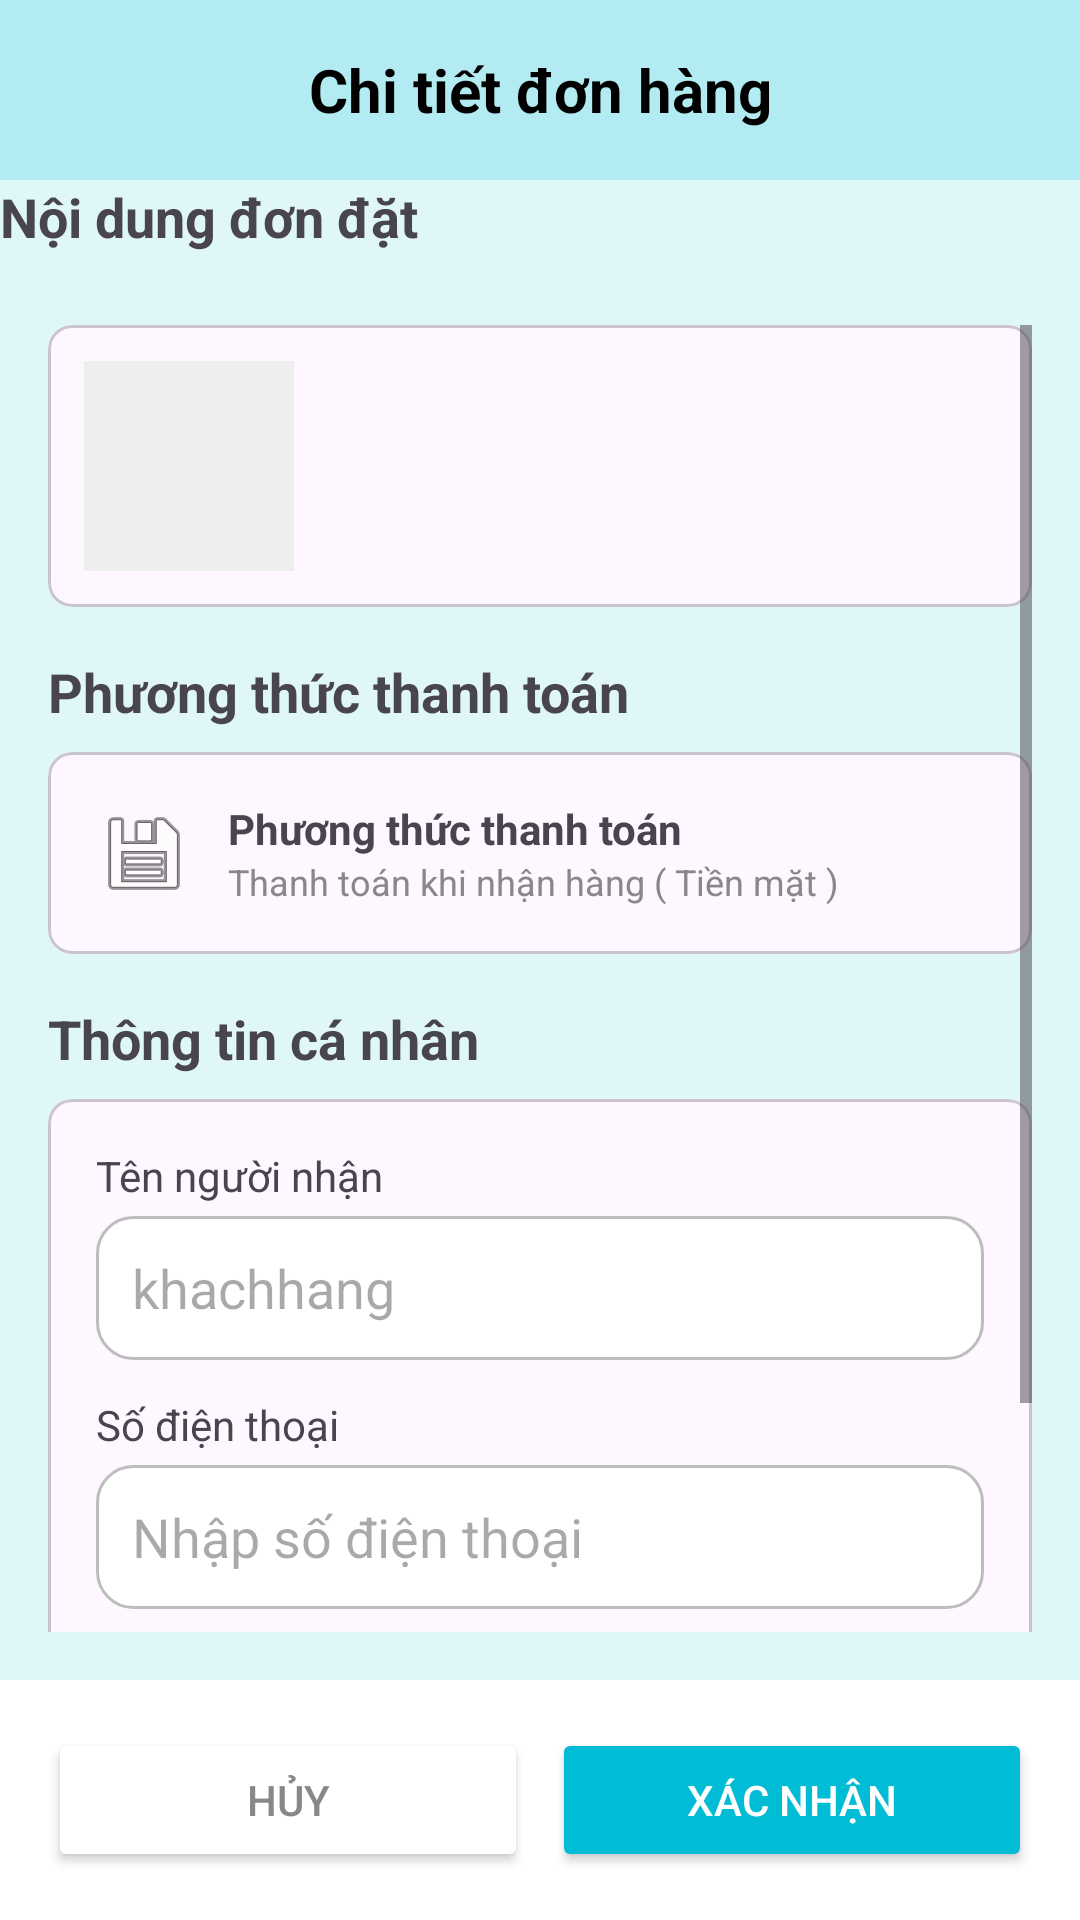

Locate icon controls on the screen. Image size 1080×1920, boxes as box(x1, y1, x2, y2).
save: box(108, 817, 180, 890)
